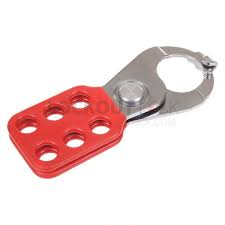hasp: (4, 48, 217, 180)
